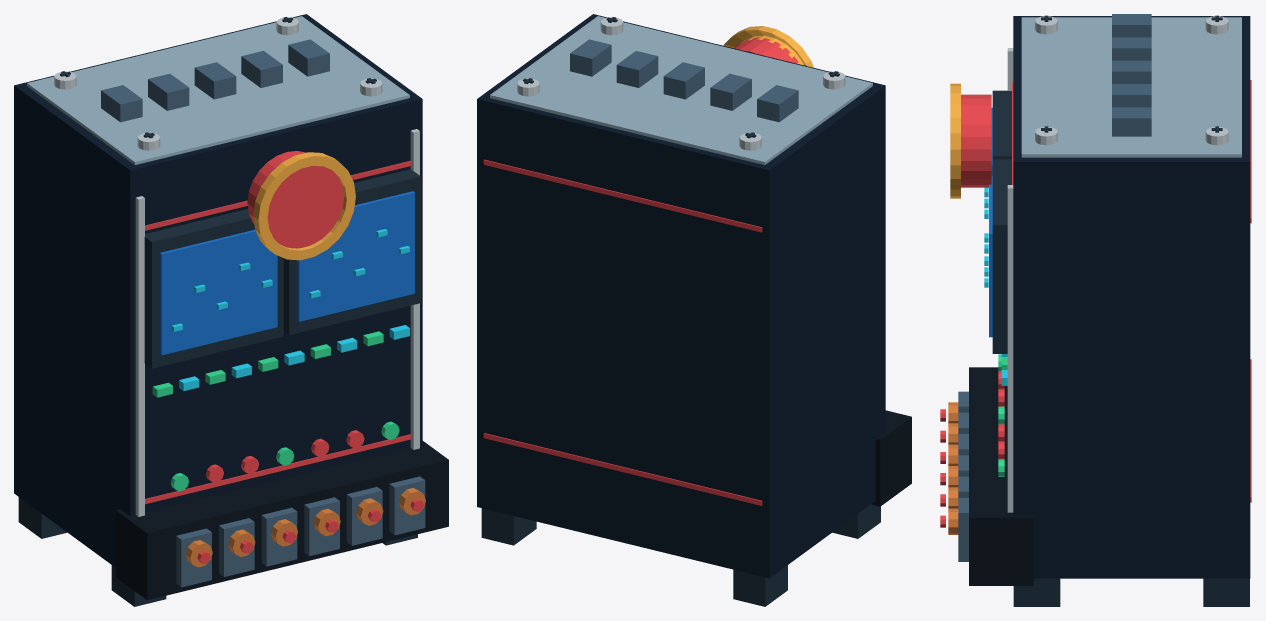
The model's file is 53_L76_ElectroplatingEmergencySafetyStation.fbx.
The picture shows the model from 3 angles, left to right: view 1: azimuth 30°, elevation 25°; view 2: azimuth 150°, elevation 25°; view 3: azimuth 270°, elevation 25°; orthographic projection. The views are drawn at different scales.
Parts seen in each view (by area): view 1: ElectroplatingEmergencySafetyStation, ElectroplatingEmergencySafetyStation_Part_0083, ElectroplatingEmergencySafetyStation_Part_0084; view 2: ElectroplatingEmergencySafetyStation, ElectroplatingEmergencySafetyStation_Part_0084, ElectroplatingEmergencySafetyStation_Part_0083; view 3: ElectroplatingEmergencySafetyStation, ElectroplatingEmergencySafetyStation_Part_0083, ElectroplatingEmergencySafetyStation_Part_0084.
Boxes of the visible parts, left/top/right/bottom form: ElectroplatingEmergencySafetyStation: left=14, top=14, right=448, bottom=606; ElectroplatingEmergencySafetyStation_Part_0083: left=247, top=151, right=343, bottom=248; ElectroplatingEmergencySafetyStation_Part_0084: left=253, top=152, right=355, bottom=260; ElectroplatingEmergencySafetyStation: left=477, top=14, right=911, bottom=606; ElectroplatingEmergencySafetyStation_Part_0084: left=723, top=26, right=813, bottom=67; ElectroplatingEmergencySafetyStation_Part_0083: left=734, top=37, right=798, bottom=63; ElectroplatingEmergencySafetyStation: left=940, top=14, right=1251, bottom=606; ElectroplatingEmergencySafetyStation_Part_0083: left=961, top=94, right=991, bottom=187; ElectroplatingEmergencySafetyStation_Part_0084: left=950, top=83, right=960, bottom=198.
Size of the model in its own units: 99 by 144 by 86.64.
